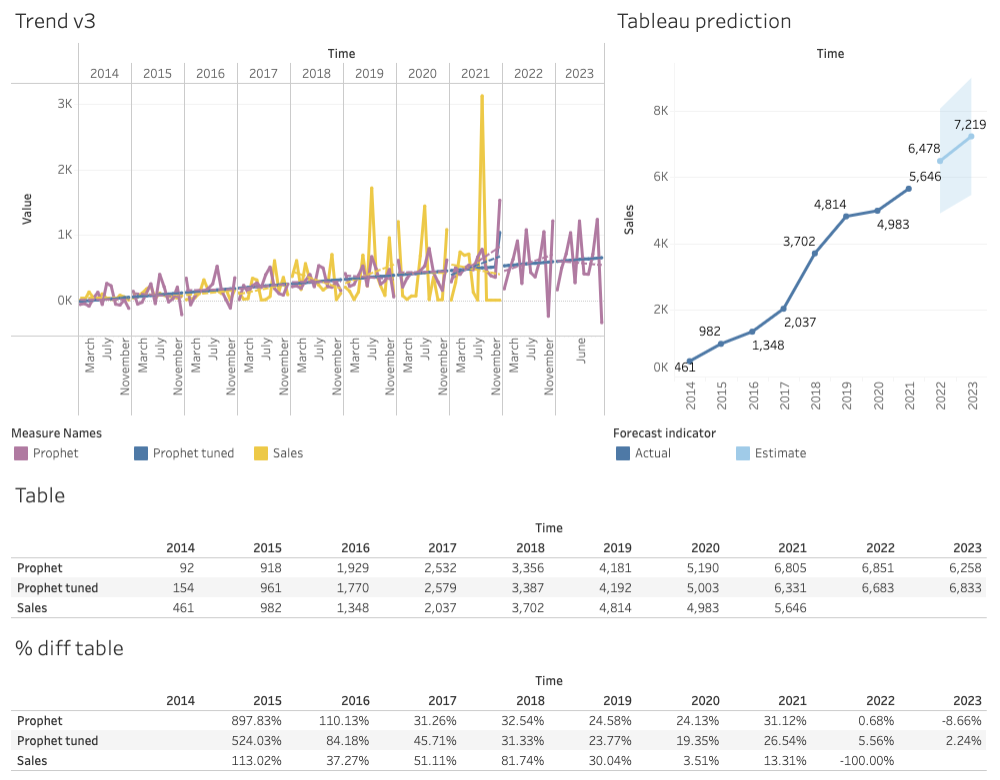

The page's visual inventory and layout, read from the dashboard file:
{"tool":"tableau","page":{"name":"Dashboard 1","canvas":[1000,800],"ordinal":0},"visuals":[{"type":"worksheet","title":"Trend v3","mark":"Line","cols":["Month1 (copy)_1344043022045286400","Month1 (copy)_1344043022045286400"],"box":[8,8,601.9,425]},{"type":"worksheet","title":"Tableau prediction","mark":"Automatic","rows":["Sales"],"cols":["Month1 (copy)_1344043022045286400"],"box":[609.9,8,382.2,425]},{"type":"legend","title":"Trend v3","param":"[federated.14go8kd0mredey12boynx1j7owvs].[:Measure Names]","box":[8,433,601.9,50]},{"type":"legend","title":"Tableau prediction","param":"[federated.14go8kd0mredey12boynx1j7owvs].[none:Forecast Indicator:nk]","box":[609.9,433,382.1,50]},{"type":"worksheet","title":"Table","mark":"Automatic","cols":["Month1 (copy)_1344043022045286400"],"box":[8,483,984,153]},{"type":"worksheet","title":"% diff table","mark":"Automatic","cols":["Month1 (copy)_1344043022045286400"],"box":[8,636,984,156]}]}

Visuals, with their boxes in screenshot pixels (x1, y1, x2, y2), scaled from the page's 1000x800 canvas onto the 1000x780 screenshot:
"Trend v3" worksheet (Line marks): [left=8, top=8, right=610, bottom=422]
"Tableau prediction" worksheet: [left=610, top=8, right=992, bottom=422]
"Trend v3" legend: [left=8, top=422, right=610, bottom=471]
"Tableau prediction" legend: [left=610, top=422, right=992, bottom=471]
"Table" worksheet: [left=8, top=471, right=992, bottom=620]
"% diff table" worksheet: [left=8, top=620, right=992, bottom=772]
